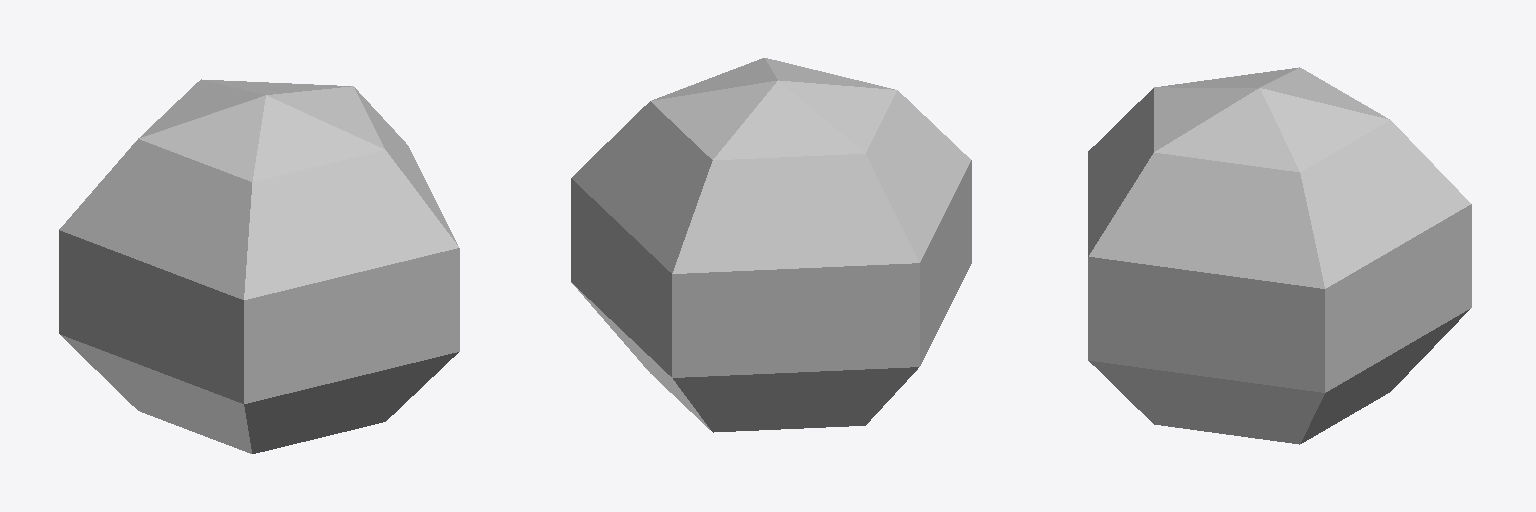
The model's file is TreeLeaves.obj.
The picture shows the model from 3 angles: view 1: azimuth 30°, elevation 25°; view 2: azimuth 150°, elevation 25°; view 3: azimuth 270°, elevation 25°; orthographic projection.
Parts seen in each view (by area): view 1: Sphere; view 2: Sphere; view 3: Sphere.
Boxes of the visible parts, <box> form: Sphere: <box>59,79,459,453</box>; Sphere: <box>571,58,971,432</box>; Sphere: <box>1088,67,1471,444</box>.
Size of the model in its own units: 5.43 by 5 by 5.16.